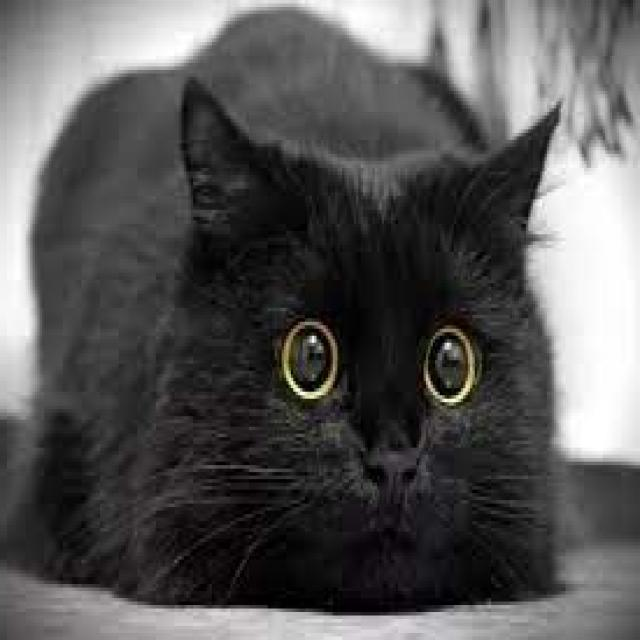black cat: (0, 6, 566, 607)
